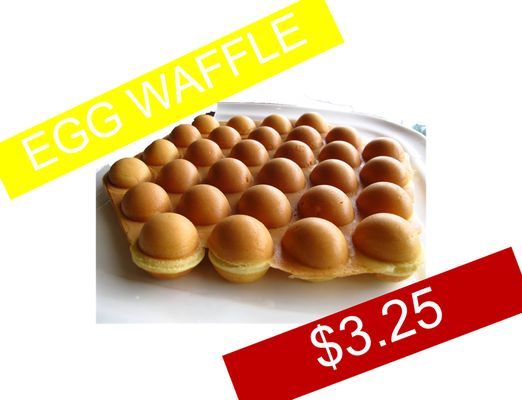taco: (101, 111, 431, 281), (207, 213, 275, 283), (236, 183, 293, 229)
